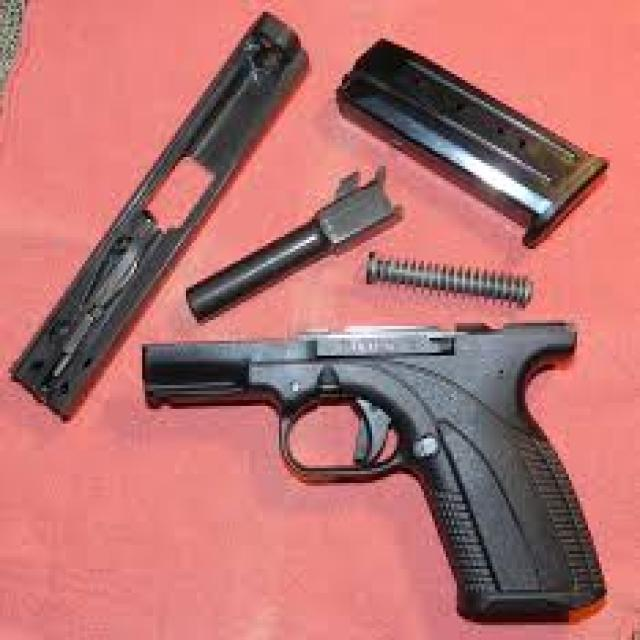Gun: (106, 298, 613, 630)
